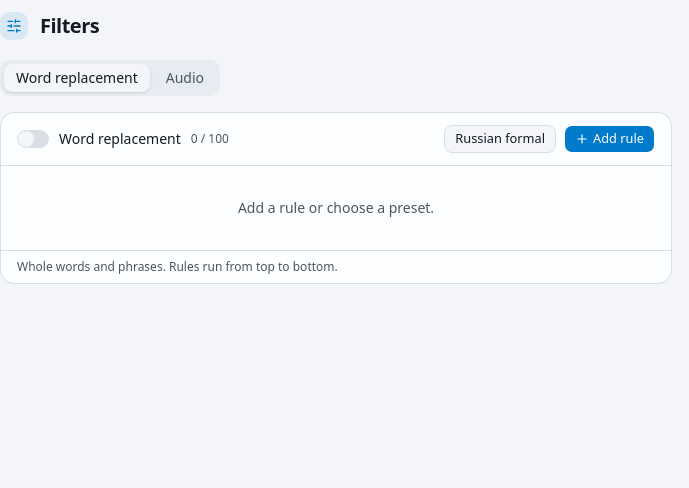
Test: FilterSettings › localizes a missing preview sample and does not expose playback controls
Press the mouse on the tab "Audio": (185, 78) [154,64,216,92]
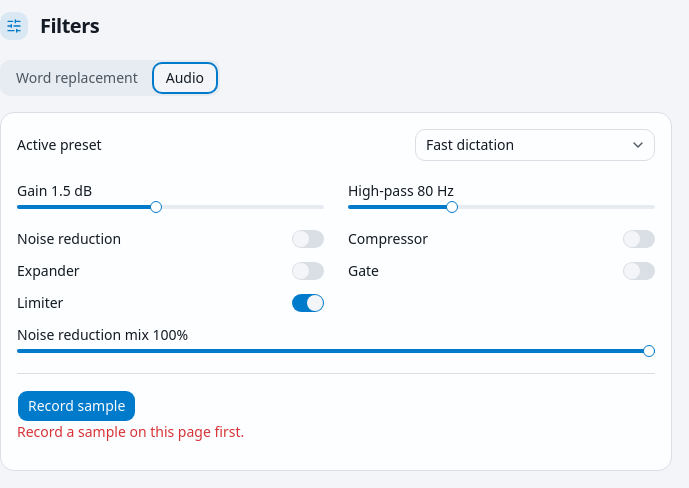
Expected: the message reads "Record a sample on this page first.", [17,422,244,441]
